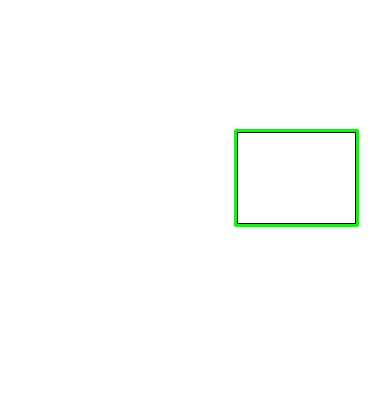line_segment: (234, 129, 359, 227)
